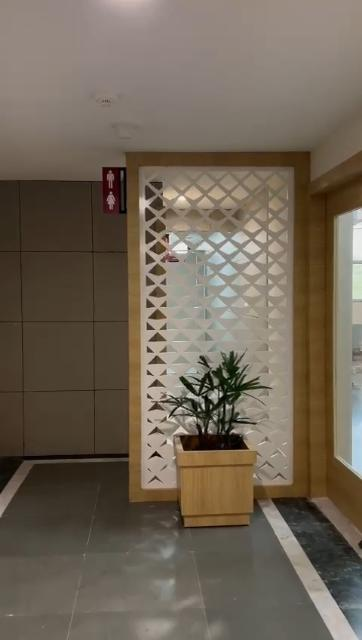floor: (0, 461, 362, 640)
object: (160, 356, 266, 524)
